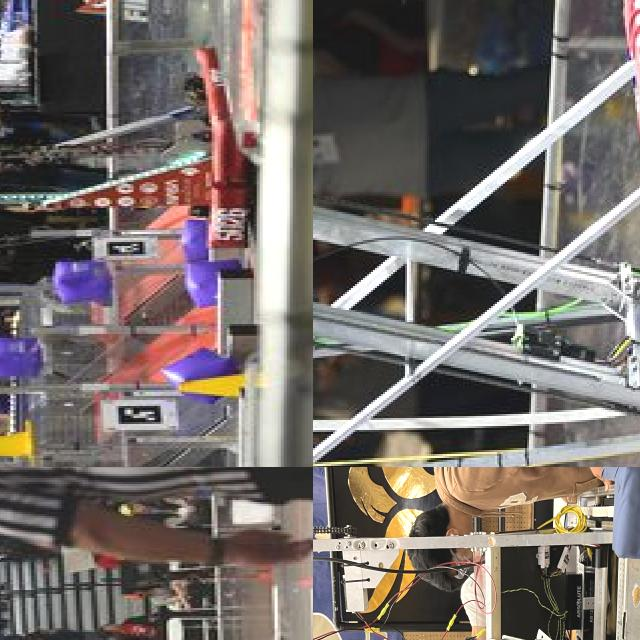FRC-Robots: (313, 0, 640, 467), (0, 50, 256, 384), (313, 467, 640, 640)
